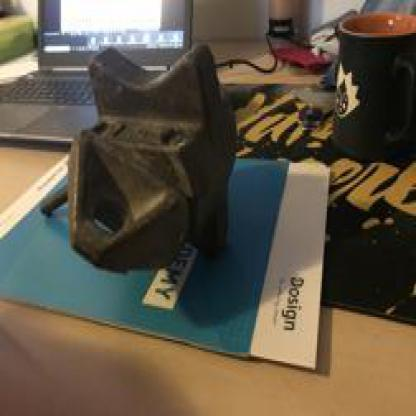Twistlock: (38, 22, 251, 288)
